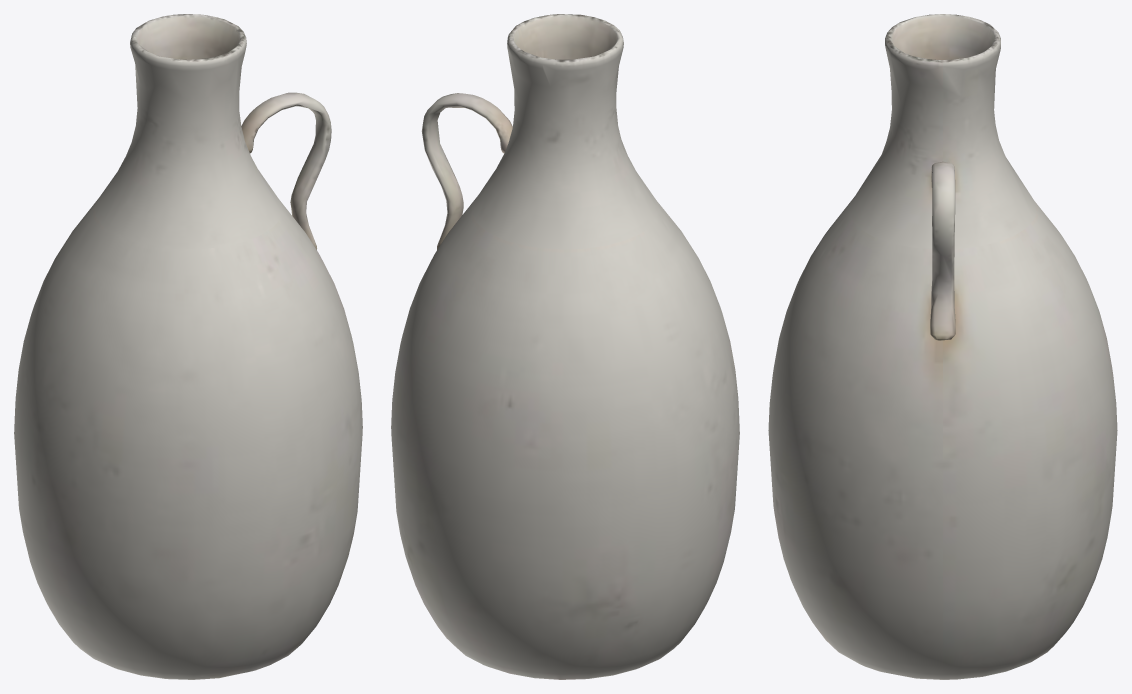
Rendered from ceramic_vase_04.glb.
The picture shows the model from 3 angles, left to right: view 1: azimuth 30°, elevation 25°; view 2: azimuth 150°, elevation 25°; view 3: azimuth 270°, elevation 25°; orthographic projection.
Parts seen in each view (by area): view 1: ceramic_vase_04; view 2: ceramic_vase_04; view 3: ceramic_vase_04.
Boxes of the visible parts, x1=… form: ceramic_vase_04: x1=14, y1=14, x2=362, y2=679; ceramic_vase_04: x1=391, y1=14, x2=739, y2=679; ceramic_vase_04: x1=768, y1=14, x2=1117, y2=679.
Size of the model in its own units: 0.1811 by 0.3419 by 0.1811.
1 material, 1 textured.
